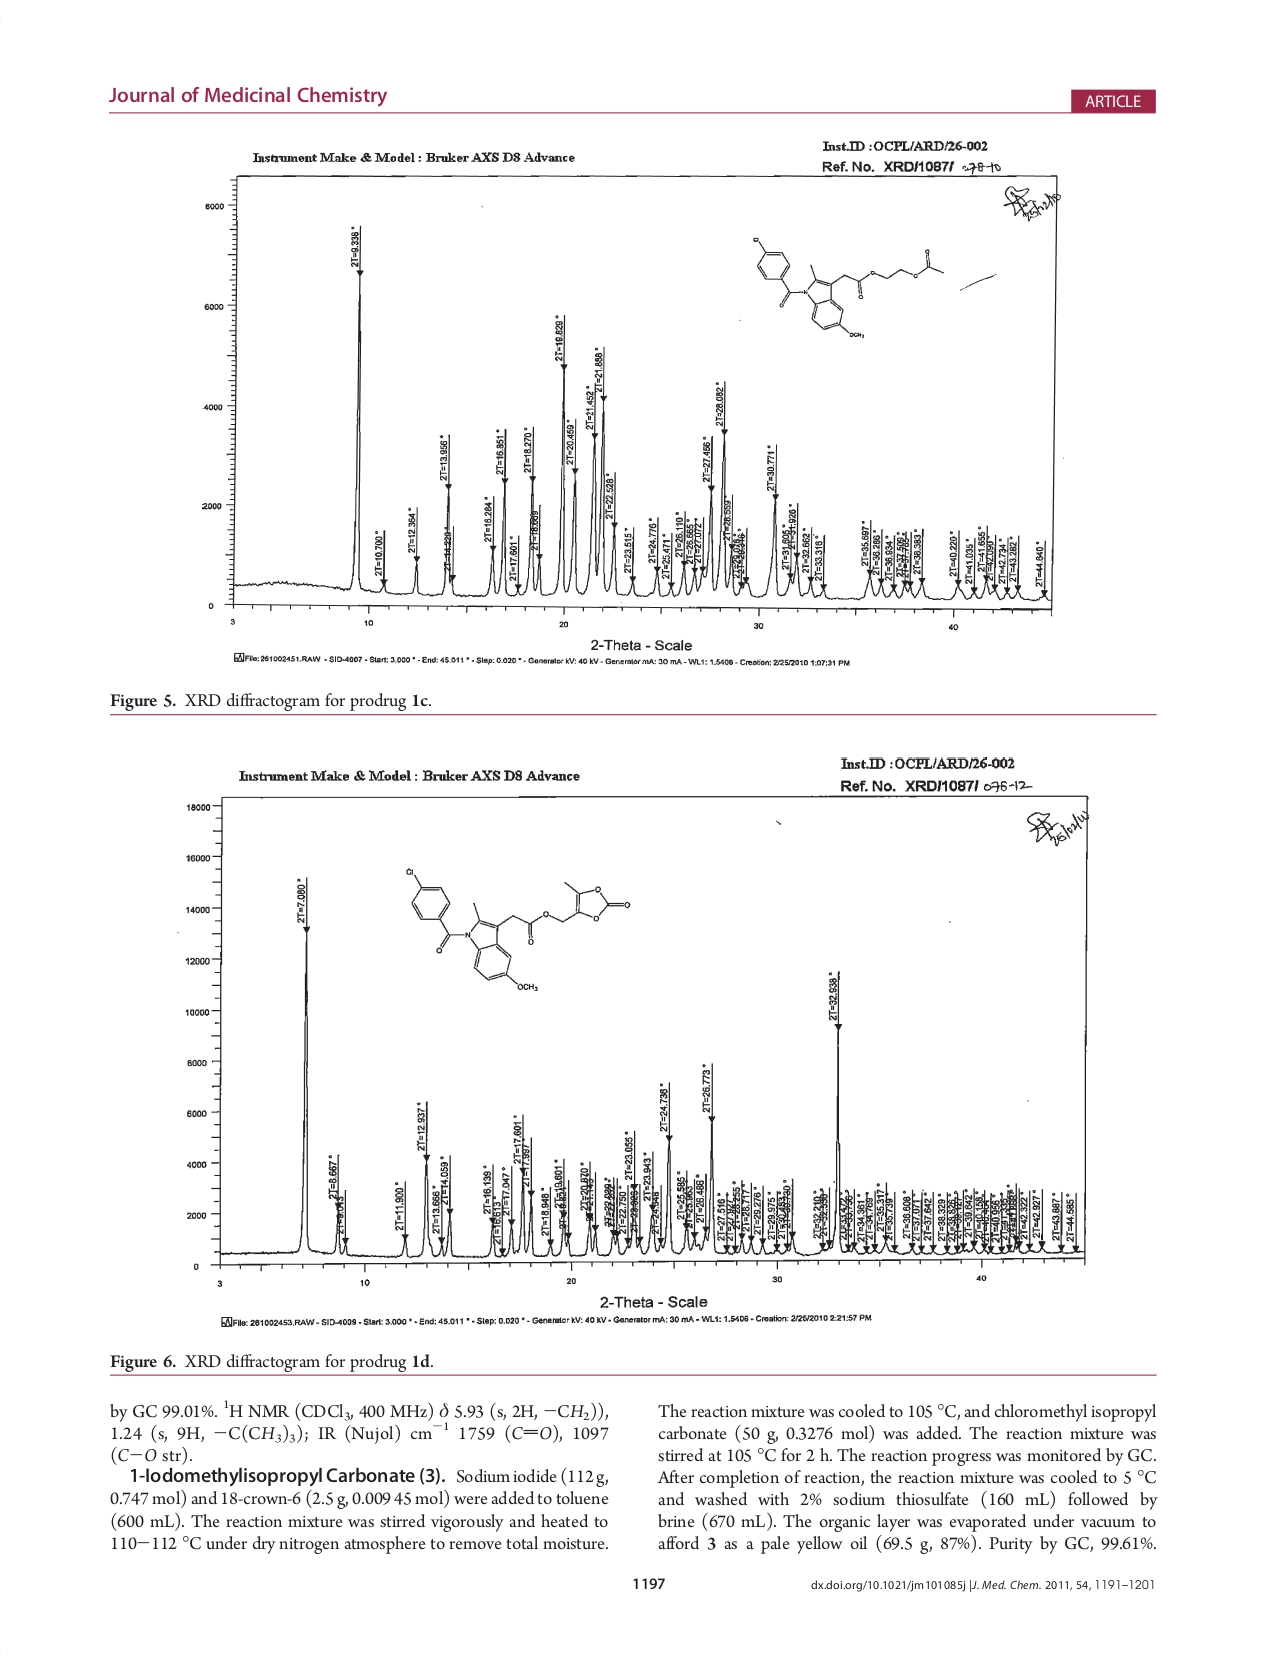exist_molecular: (400, 860, 630, 995), (747, 219, 949, 344)
